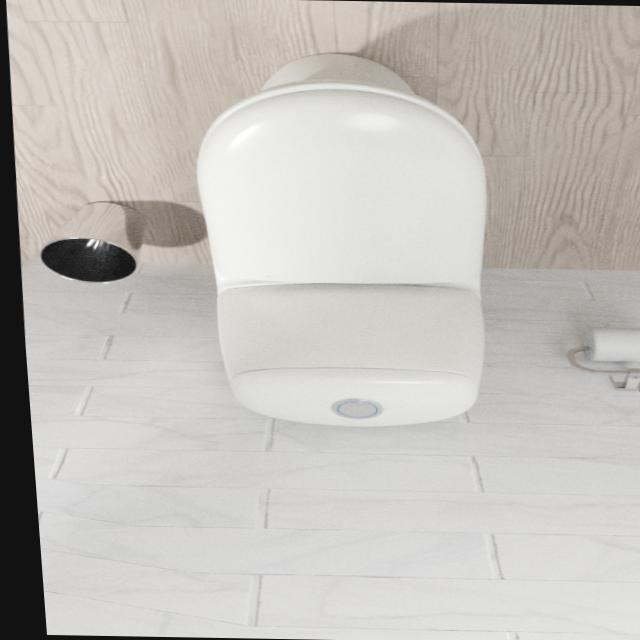toilet: (179, 51, 501, 430)
